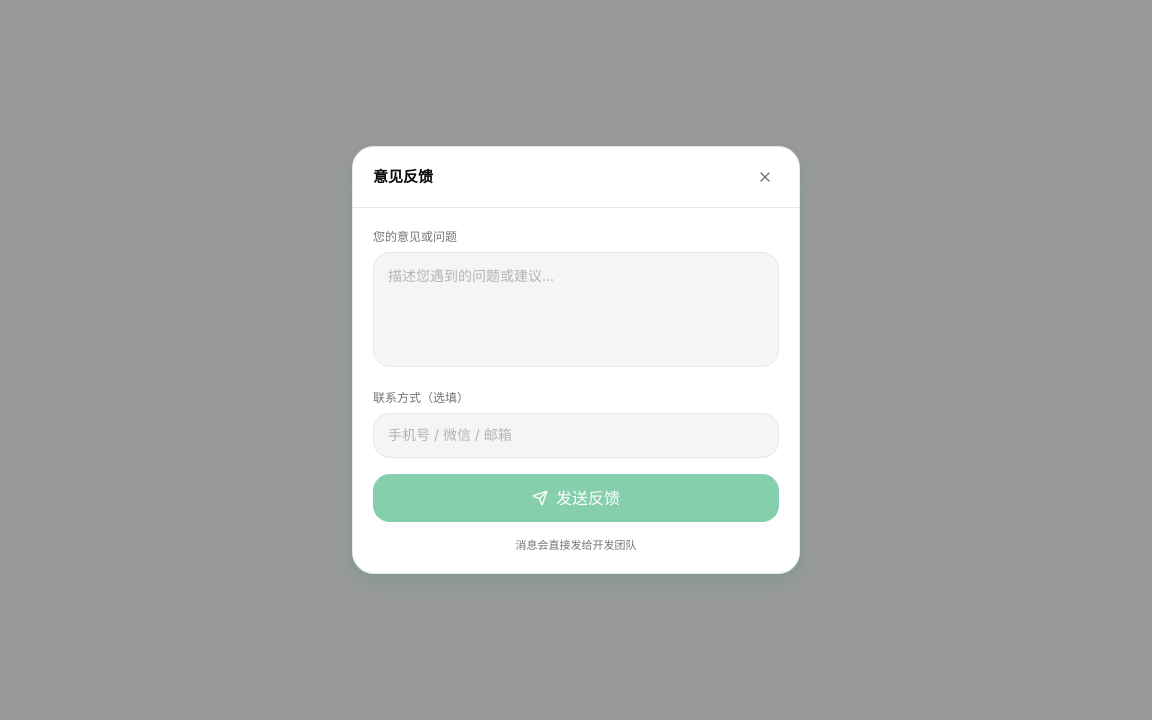
FeedbackModal › enables submit button when message is typed
In the text box with placeholder "描述您遇到的问题或建议...": (576, 310) [373,252,779,367], type "测试反馈"
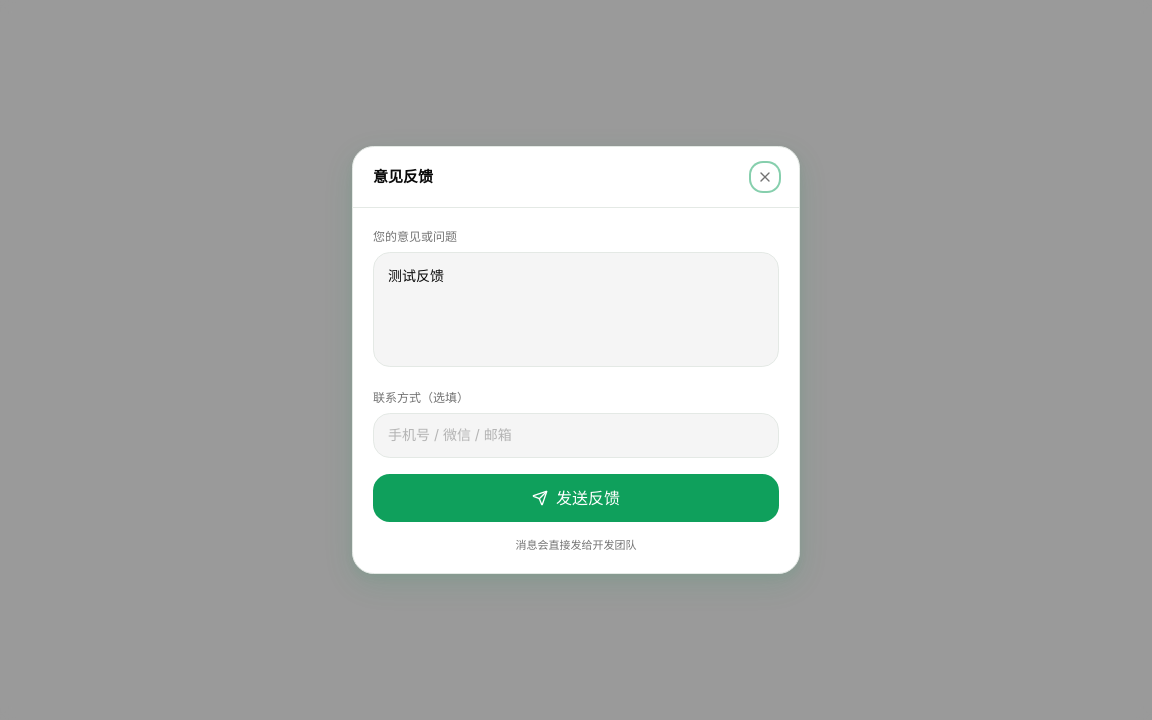
Now the button "发送反馈" is enabled, box [373,474,779,522]
